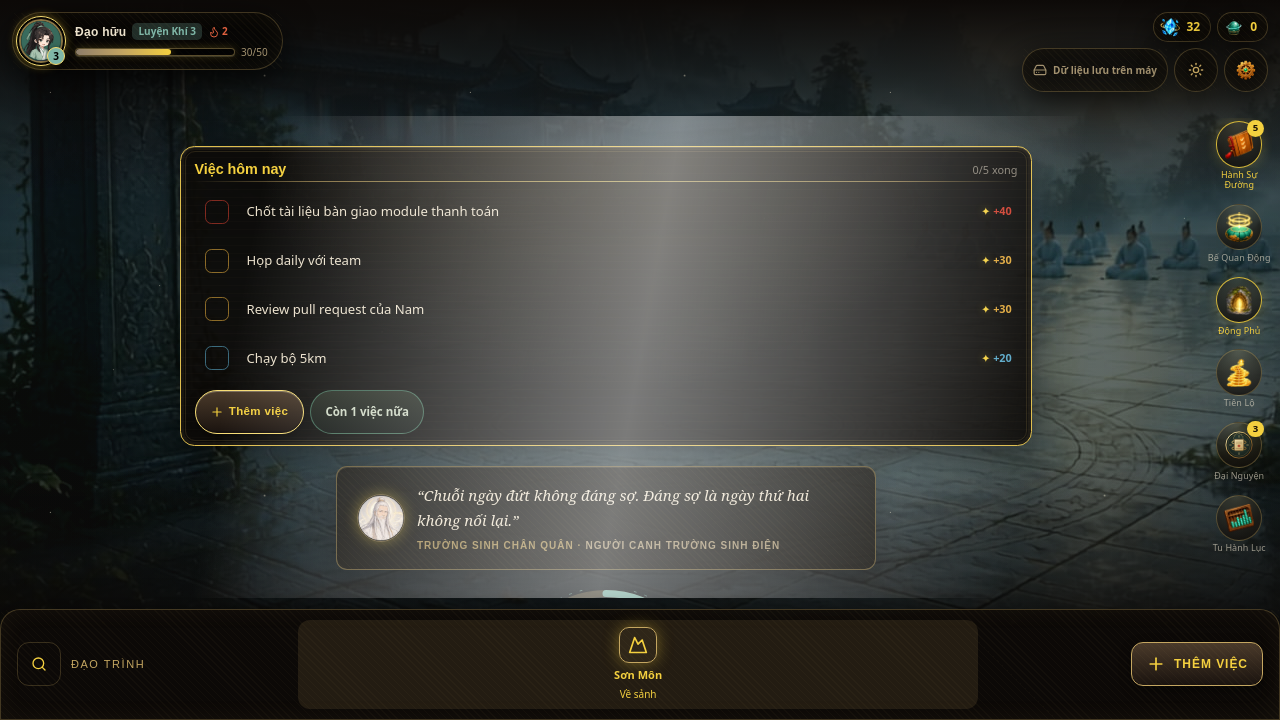
it: Ứng dụng web › dãy nút tròn bấm thẳng tới từng nơi, nhãn kèm dòng nói rõ nơi đó là gì
Click the button "5 Hành Sự Đường". click: click(1239, 156)
box: x1=1206 y1=118 x2=1272 y2=194
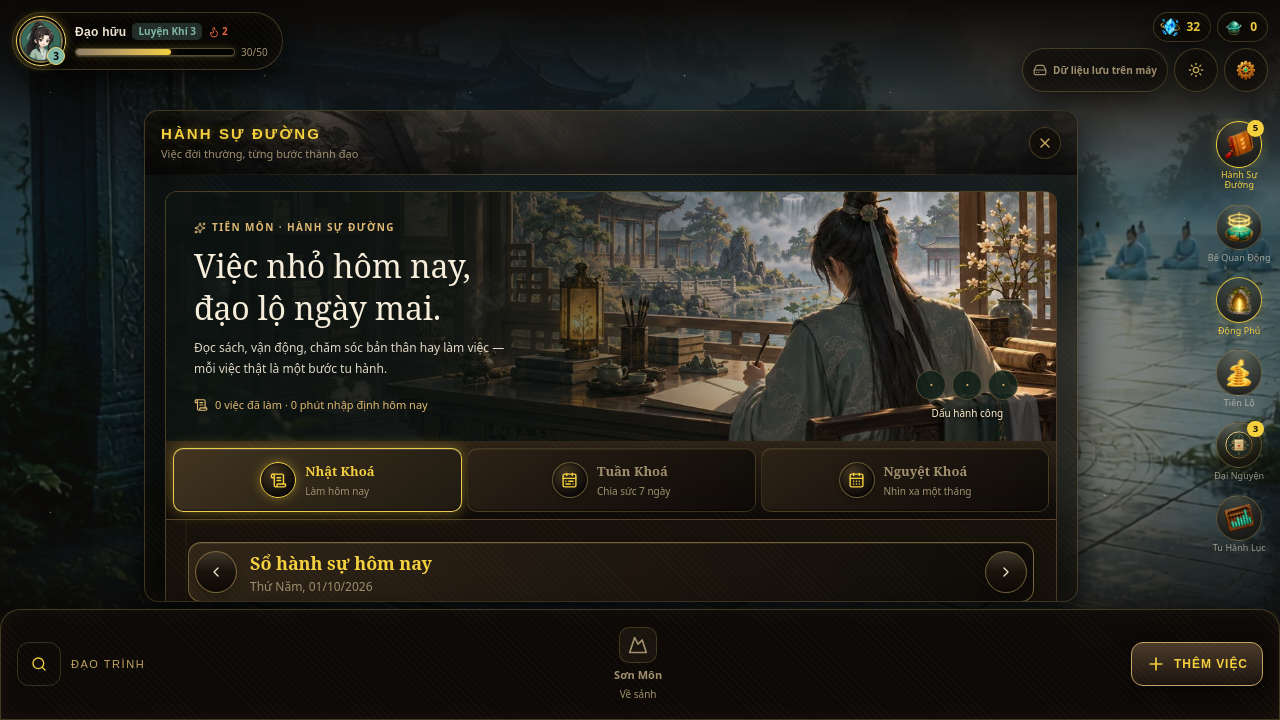
Now the heading "Hành Sự Đường" is shown, box x1=161 y1=125 x2=321 y2=142
